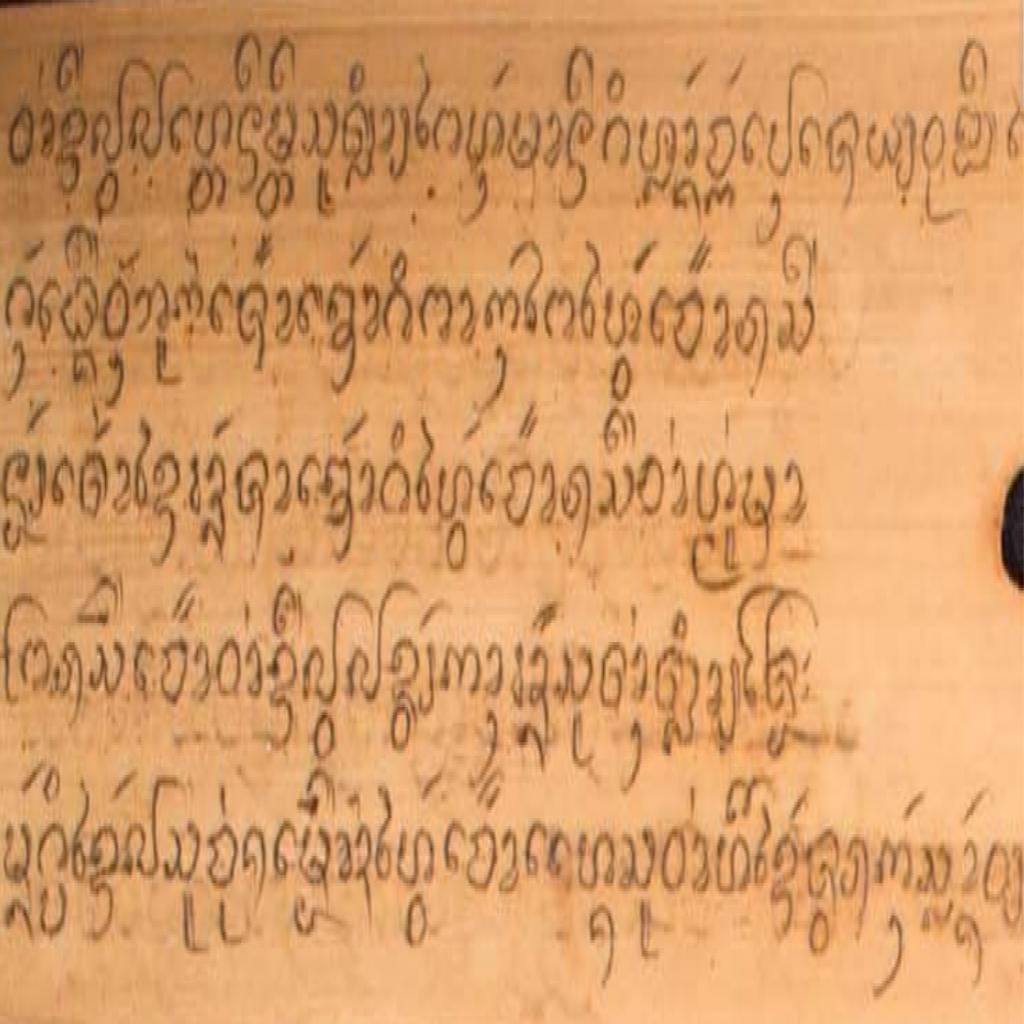LN006: (205, 818, 242, 898)
